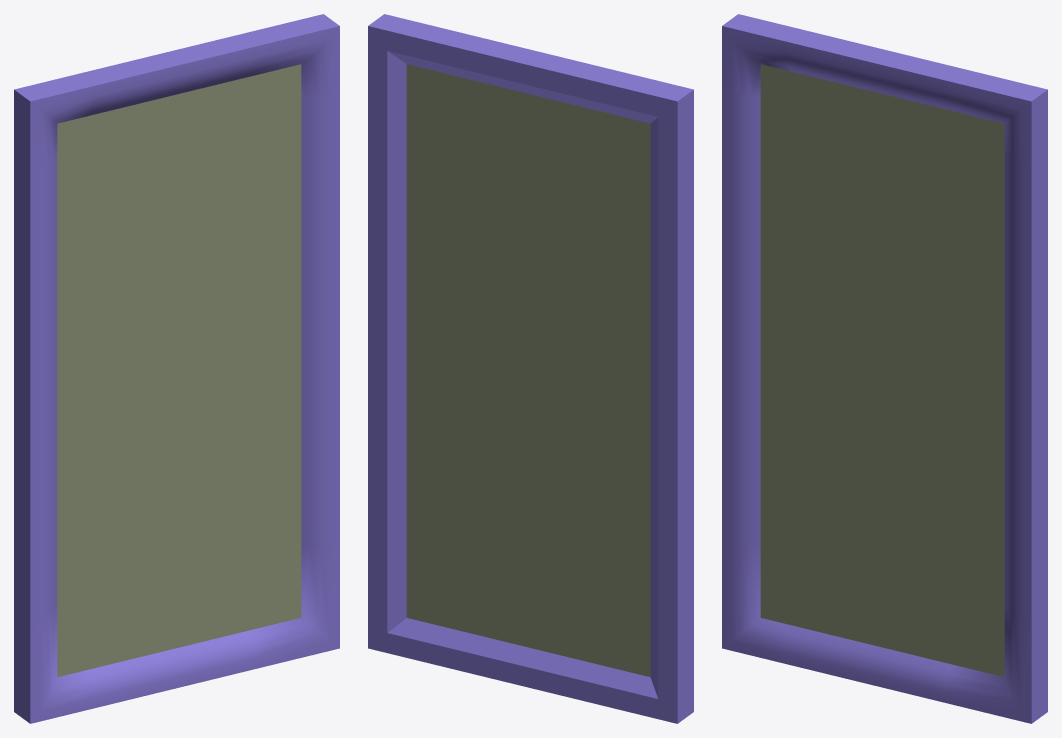
File: Door01.fbx
3 renders of one model, left to right at view 1: azimuth 30°, elevation 25°; view 2: azimuth 150°, elevation 25°; view 3: azimuth 330°, elevation 25°, orthographic.
Visible parts, largest first — view 1: Door; view 2: Door; view 3: Door.
Part boxes in pixels (x1=…): Door: x1=14, y1=14, x2=339, y2=723; Door: x1=368, y1=14, x2=693, y2=723; Door: x1=722, y1=14, x2=1047, y2=723.
Size of the model in its own units: 125 by 239 by 11.42.
